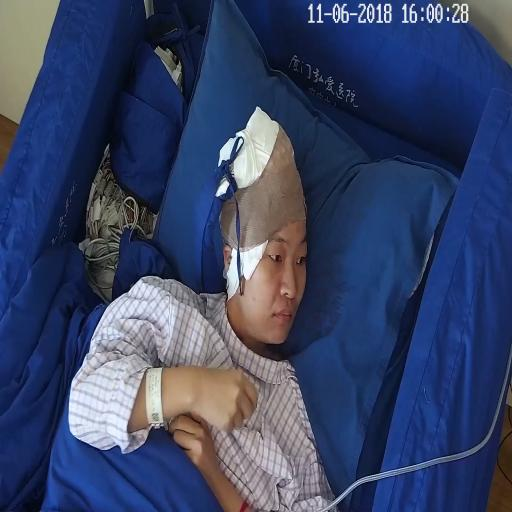Seizure: (218, 115, 312, 351)
